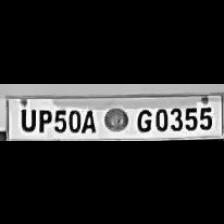0: (152, 104, 170, 130), (65, 106, 79, 132)
3: (168, 104, 184, 130)
5: (50, 106, 68, 132), (196, 103, 212, 130), (182, 104, 198, 130)
A: (76, 105, 98, 133)
G: (132, 104, 152, 132)
P: (34, 106, 52, 132)
U: (16, 104, 36, 130)
